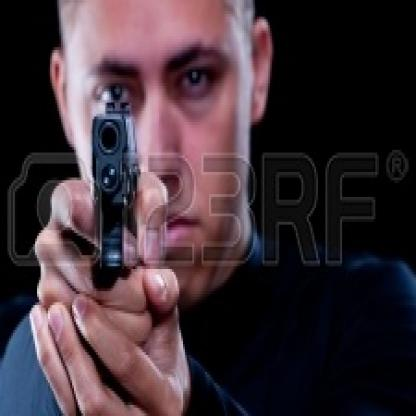gun: (89, 100, 144, 280)
